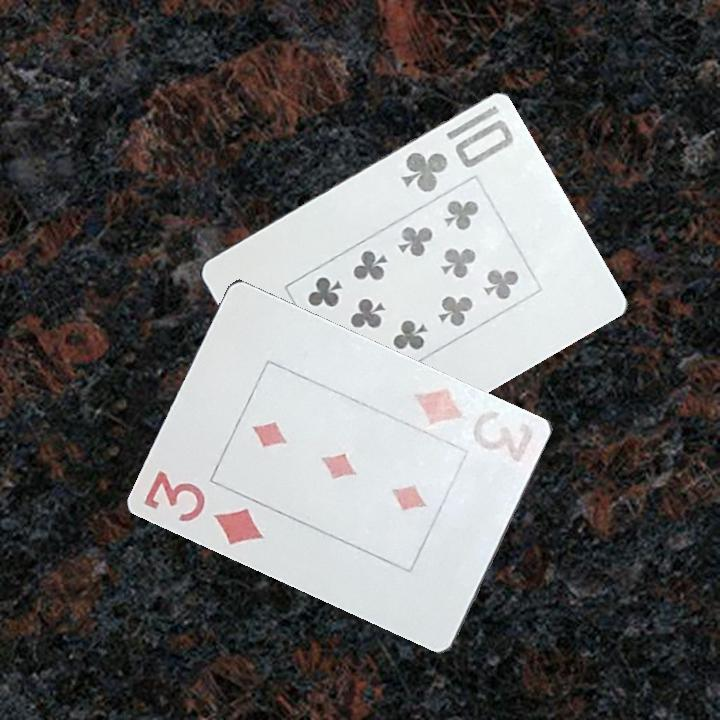3d: (411, 384, 538, 471), (140, 466, 267, 551)
Tc: (396, 102, 518, 196)
